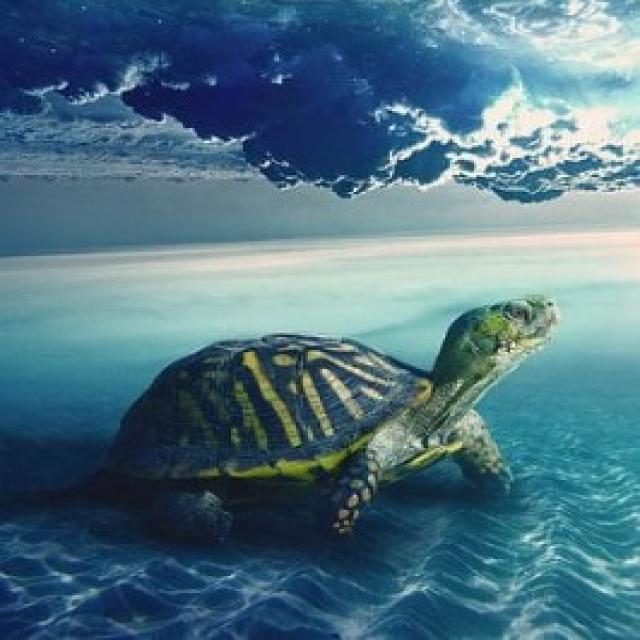Sea turtle: (63, 289, 566, 562)
